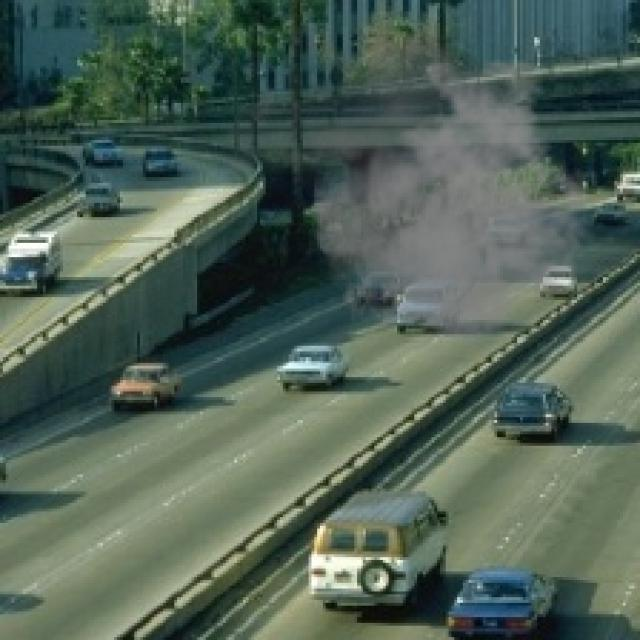smoke: (212, 20, 597, 363)
